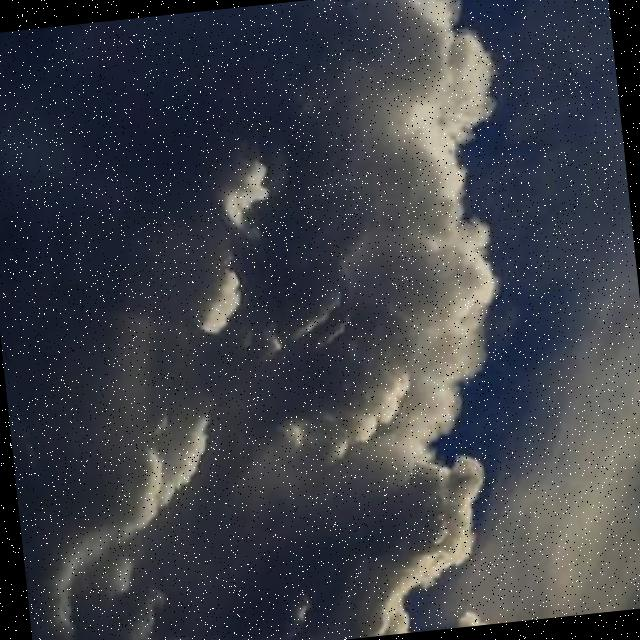Ns: (1, 1, 572, 640)
